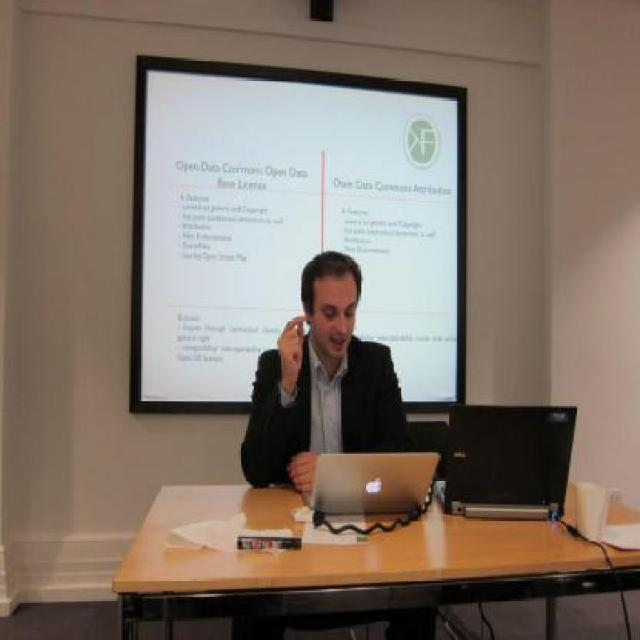Person: (242, 252, 413, 513)
